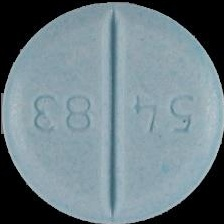0603-5483: (0, 0, 224, 224)
